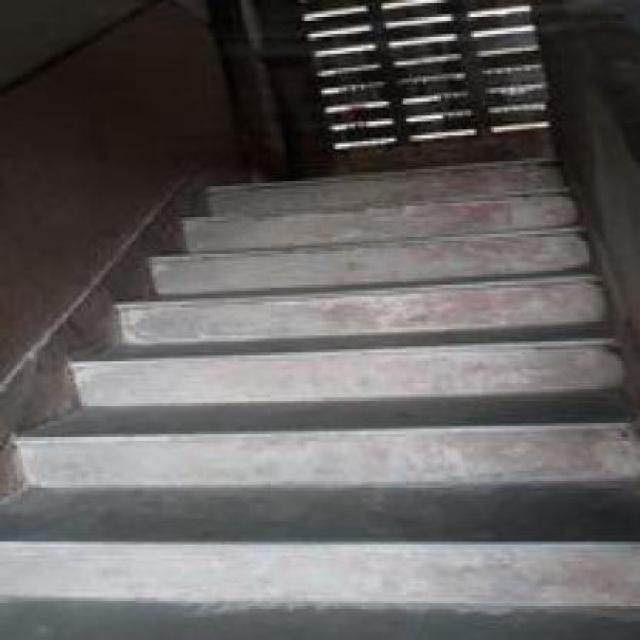stair: (43, 278, 585, 609)
